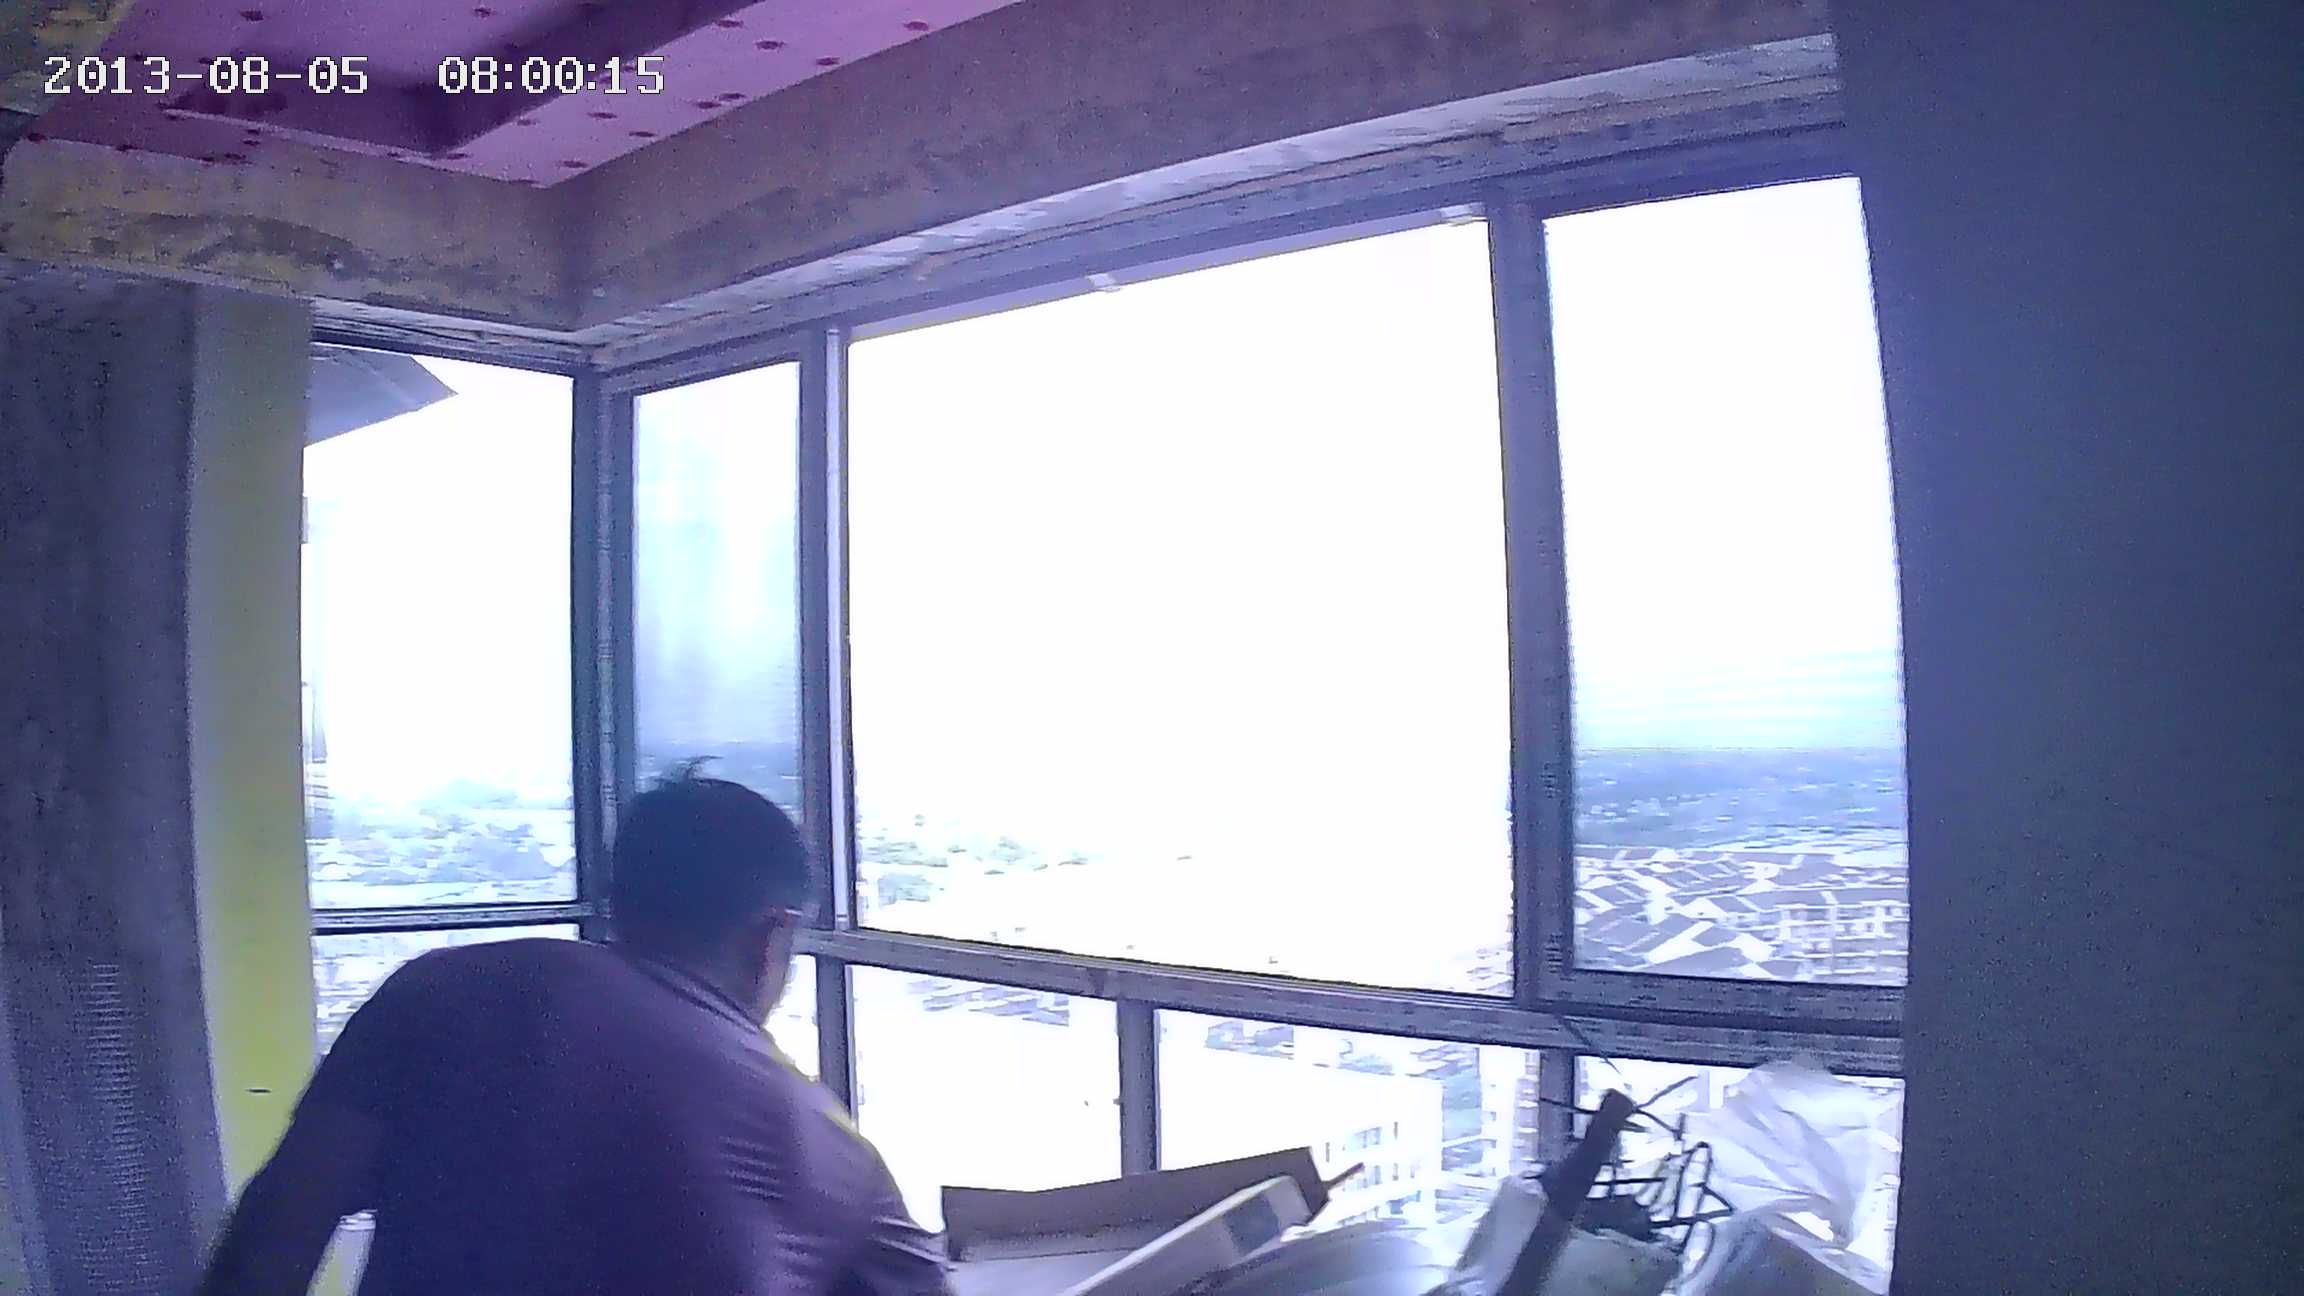people: (168, 773, 950, 1296)
window: (309, 207, 1915, 1254)
